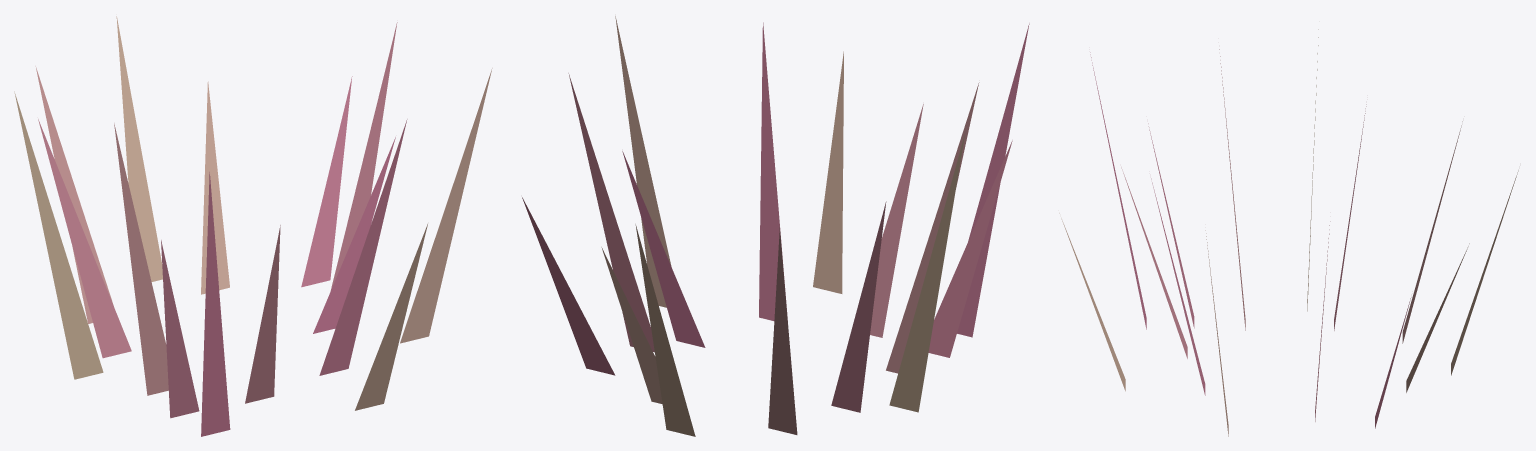
Rendered from WC_RIVER_Grass_Bank_A.glb.
The picture shows the model from 3 angles, left to right: view 1: azimuth 30°, elevation 25°; view 2: azimuth 150°, elevation 25°; view 3: azimuth 270°, elevation 25°; orthographic projection. The views are drawn at different scales.
Parts seen in each view (by area): view 1: WC_RIVER_Grass_Bank_A_RenderMesh; view 2: WC_RIVER_Grass_Bank_A_RenderMesh; view 3: WC_RIVER_Grass_Bank_A_RenderMesh.
Boxes of the visible parts, box(x1,y1,x2,y2) form: WC_RIVER_Grass_Bank_A_RenderMesh: box(14, 16, 492, 436); WC_RIVER_Grass_Bank_A_RenderMesh: box(522, 16, 1029, 436); WC_RIVER_Grass_Bank_A_RenderMesh: box(1059, 29, 1518, 436).
Bounding box in the file's own units: 0.5099 × 0.35 × 0.555.
